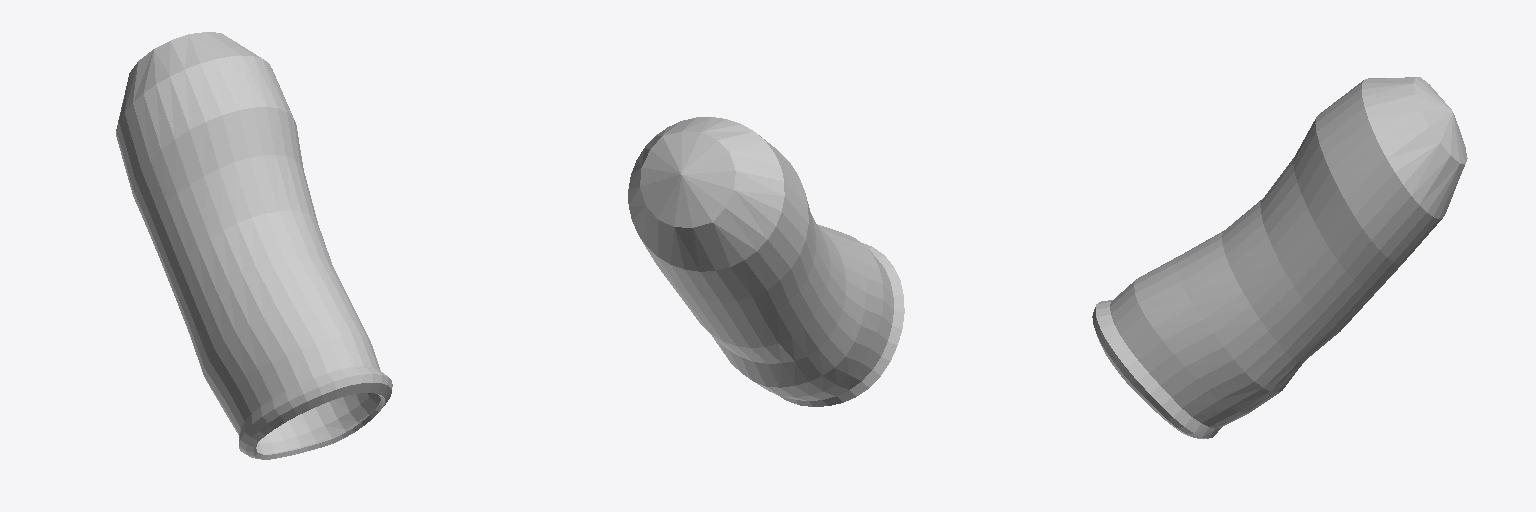
Rendered from pone_Long_Sheth.obj.
3 views of the same model, side by side, from view 1: azimuth 30°, elevation 25°; view 2: azimuth 150°, elevation 25°; view 3: azimuth 270°, elevation 25° (orthographic).
Parts seen in each view (by area): view 1: dick_in_sheath.008_horsecock.010; view 2: dick_in_sheath.008_horsecock.010; view 3: dick_in_sheath.008_horsecock.010.
Boxes of the visible parts, x1,y1,x2,y2 form: dick_in_sheath.008_horsecock.010: [116, 32, 392, 459]; dick_in_sheath.008_horsecock.010: [628, 117, 904, 406]; dick_in_sheath.008_horsecock.010: [1092, 77, 1467, 438].
Bounding box in the file's own units: 8.62 × 17.95 × 17.67.